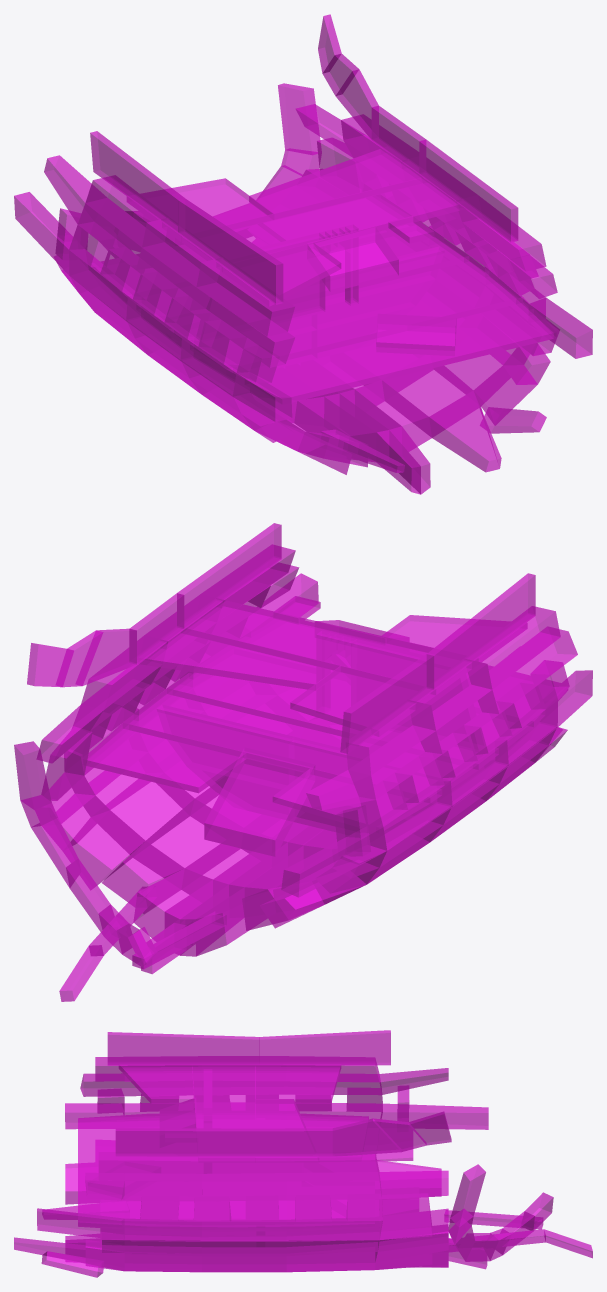
File: SM_Prop_Wreck_Large_Middle_01_Collision.fbx
The picture shows the model from 3 angles, top to bottom: view 1: azimuth 30°, elevation 25°; view 2: azimuth 150°, elevation 25°; view 3: azimuth 270°, elevation 25°; orthographic projection. The views are drawn at different scales.
Visible parts, largest first — view 1: SM_Prop_Wreck_Large_Middle_01_Collision; view 2: SM_Prop_Wreck_Large_Middle_01_Collision; view 3: SM_Prop_Wreck_Large_Middle_01_Collision.
Boxes of the visible parts, x1=… form: SM_Prop_Wreck_Large_Middle_01_Collision: x1=14, y1=14, x2=592, y2=494; SM_Prop_Wreck_Large_Middle_01_Collision: x1=14, y1=523, x2=592, y2=1001; SM_Prop_Wreck_Large_Middle_01_Collision: x1=14, y1=1030, x2=592, y2=1277.
Size of the model in its own units: 1280 by 1018 by 2592.
